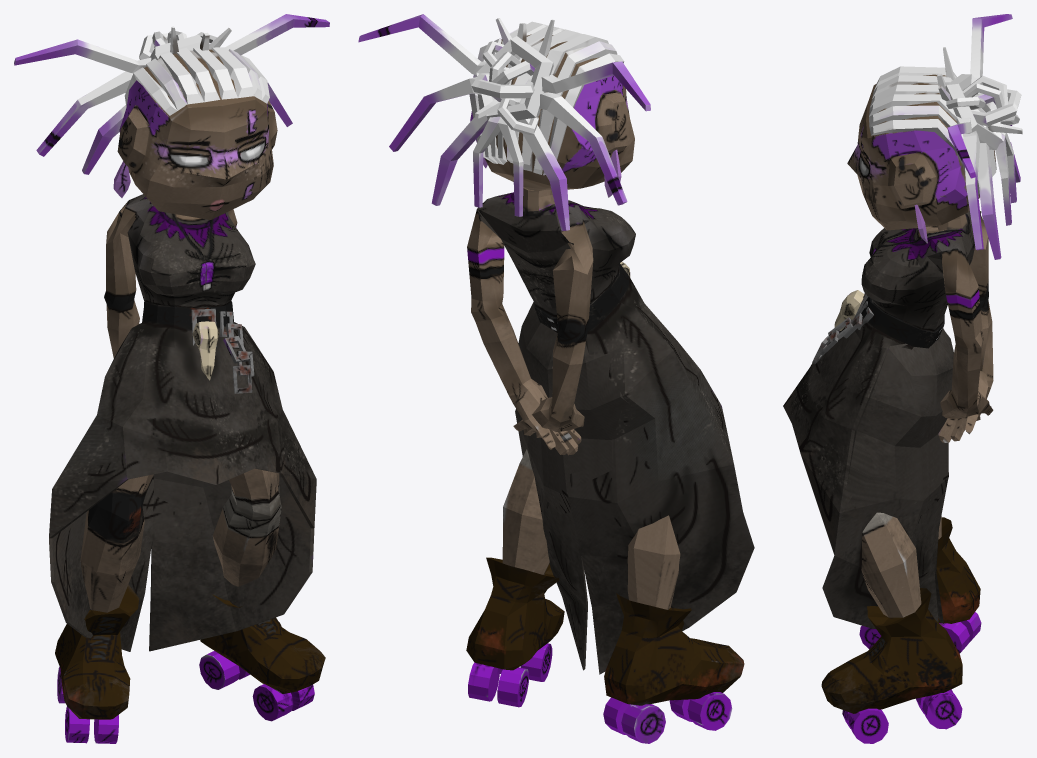
File: bruja_000006.obj
3 renders of one model, left to right at view 1: azimuth 30°, elevation 25°; view 2: azimuth 150°, elevation 25°; view 3: azimuth 270°, elevation 25°, orthographic. The views are drawn at different scales.
Visible parts, largest first — view 1: Bruja_Plane.001; view 2: Bruja_Plane.001; view 3: Bruja_Plane.001.
Boxes of the visible parts, x1,y1,x2,y2 form: Bruja_Plane.001: (14, 14, 329, 743); Bruja_Plane.001: (358, 14, 754, 743); Bruja_Plane.001: (783, 14, 1022, 743).
Bounding box in the file's own units: 8.19 × 16.12 × 5.34.
